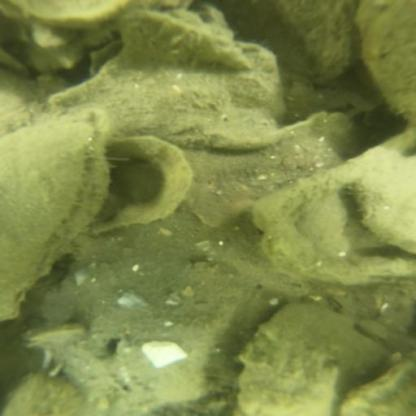Oyster- Indeterminate: (1, 112, 112, 315)
Oyster-Closed: (40, 255, 250, 409), (45, 47, 281, 149), (187, 111, 360, 223), (238, 302, 382, 411), (222, 2, 351, 86), (116, 11, 253, 69), (361, 0, 413, 118), (355, 149, 410, 252), (340, 353, 414, 416)
